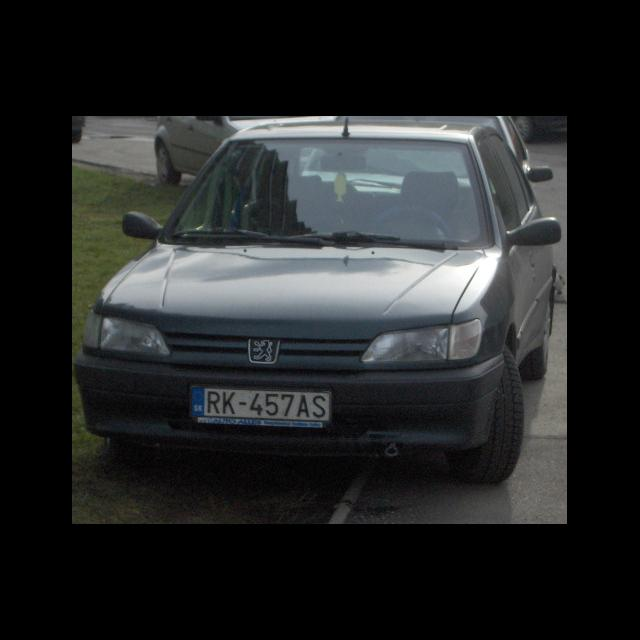Plate: (188, 382, 334, 427)
